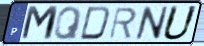D: (77, 5, 112, 42)
M: (19, 5, 61, 42)
N: (134, 6, 170, 41)
Q: (53, 5, 84, 41)
R: (108, 6, 139, 40)
U: (160, 4, 200, 42)
